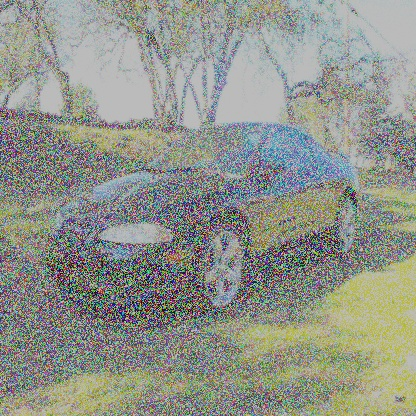Vehicle: (46, 121, 362, 313)
